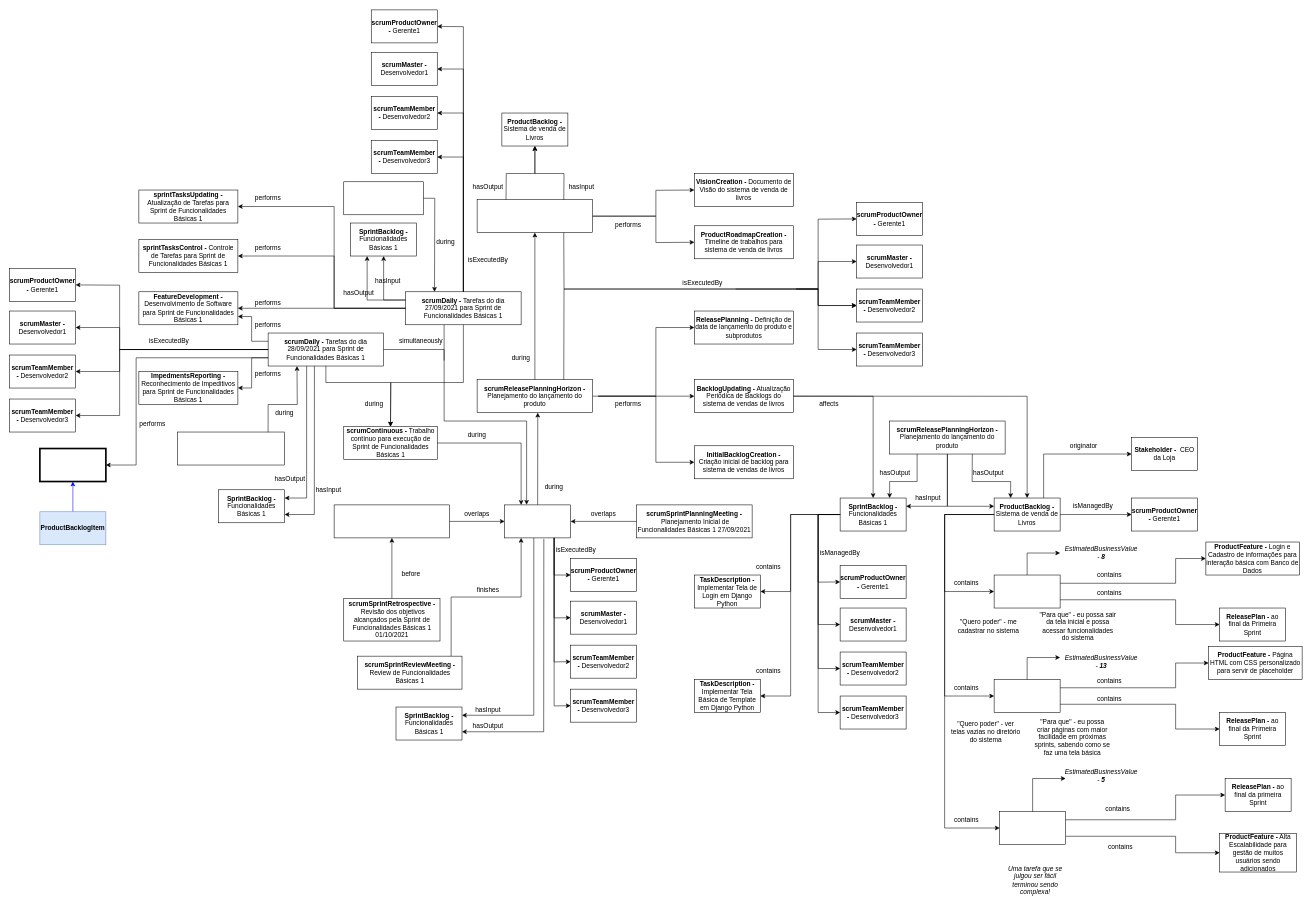
This 1312x905 diagram has some shape labels left out. The centre of each missing label's shape, as x and y in pixels:
DO::Decision - Escolher BD: the point at 72,464
ProductBacklogItem - Escolha de Banco de Dados a ser usado: the point at 1032,828
ProductBacklogItem - Tela Básica no Sistema: the point at 1027,696
ProductBacklogItem - Tela de Login: the point at 1027,591
scrumDailyMeeting - dia 27/09/2021: the point at 383,198
scrumDailyMeeting - dia 28/09/2021: the point at 231,448
scrumSprint - Funcionalidades Básicas 1: the point at 537,521
scrumSprintPlanningMeeting - Reunião de Planejamento da Sprint 2 01/10/2021: the point at 392,521
scrumStrategyPlanningHorizon - Reunião de estratégia para obter produto final: the point at 535,216
